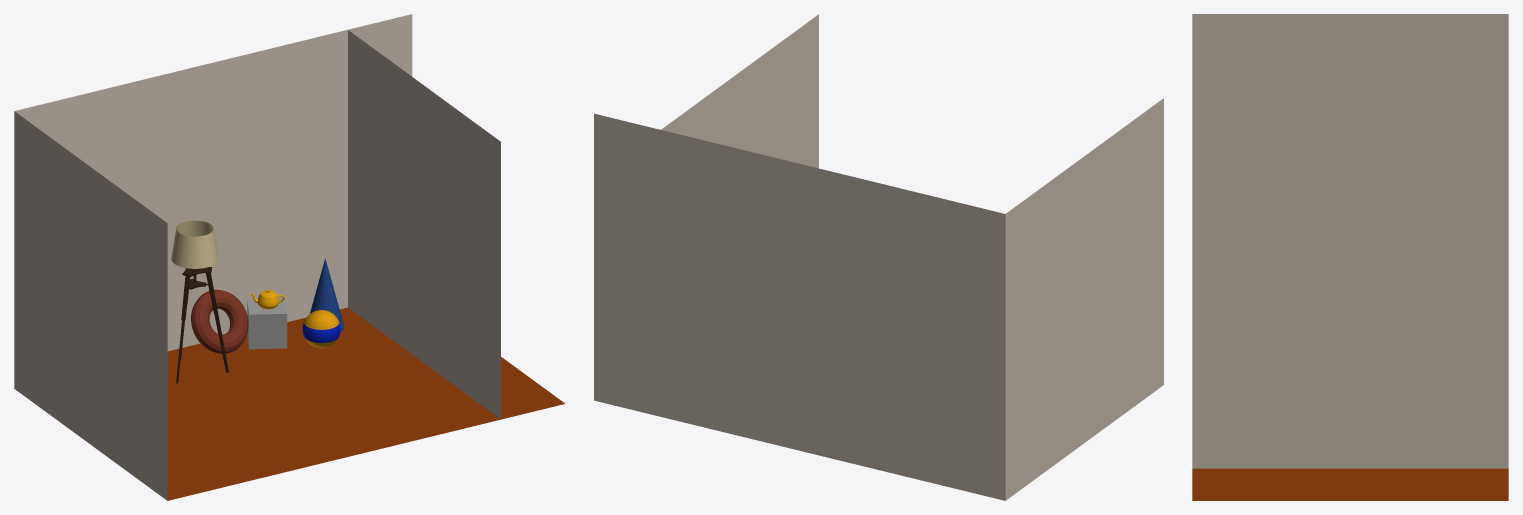
3 renders of one model, left to right at view 1: azimuth 30°, elevation 25°; view 2: azimuth 150°, elevation 25°; view 3: azimuth 270°, elevation 25°, orthographic. The views are drawn at different scales.
Parts seen in each view (by area): view 1: Wall3, Wall1, Wall2, Floor, Torus, LampShade, Cube, LampStand, Cone, Sphere; view 2: Wall3, Wall1, Wall2; view 3: Wall2, Wall1, Floor.
Boxes of the visible parts, x1,y1,x2,y2 form: Wall3: (14, 14, 412, 351); Wall1: (14, 111, 167, 500); Wall2: (348, 30, 500, 418); Floor: (167, 307, 565, 500); Torus: (191, 289, 248, 353); LampShade: (171, 220, 218, 268); Cube: (247, 297, 287, 349); LampStand: (176, 267, 228, 383); Cone: (310, 258, 344, 331); Sphere: (304, 310, 339, 348); Wall3: (594, 113, 1005, 500); Wall1: (1005, 98, 1163, 500); Wall2: (661, 14, 818, 168); Wall2: (1192, 182, 1508, 468); Wall1: (1192, 14, 1508, 181); Floor: (1192, 468, 1508, 500).
Bounding box in the file's own units: 12 × 8 × 8.
